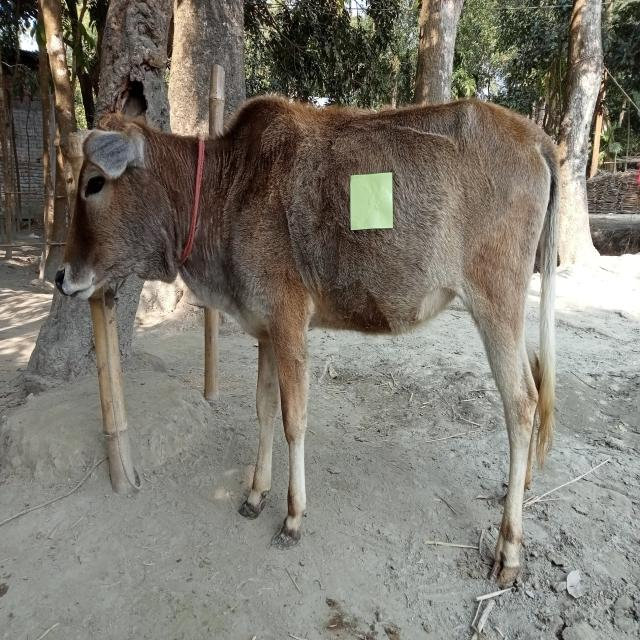badan_sapi: (257, 98, 544, 334)
sapi: (56, 93, 574, 600)
